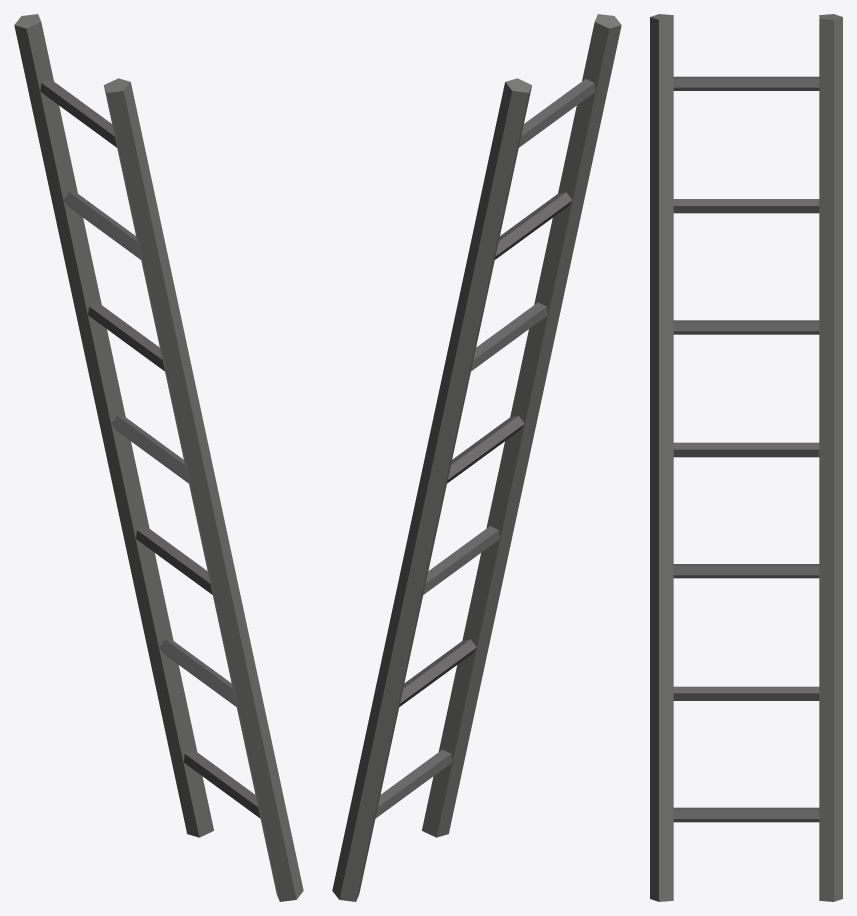
Rendered from SCAFFOLD LADDER.glb.
The picture shows the model from 3 angles, left to right: view 1: azimuth 30°, elevation 25°; view 2: azimuth 150°, elevation 25°; view 3: azimuth 270°, elevation 25°; orthographic projection. The views are drawn at different scales.
Visible parts, largest first — view 1: Scaffold_Ladder; view 2: Scaffold_Ladder; view 3: Scaffold_Ladder.
Part boxes in pixels (x1,y1,x2,y2): Scaffold_Ladder: (14, 14, 303, 901); Scaffold_Ladder: (332, 14, 621, 901); Scaffold_Ladder: (650, 14, 842, 901).
Bounding box in the file's own units: 1.77 × 7.38 × 1.6.
1 material, 1 textured.
